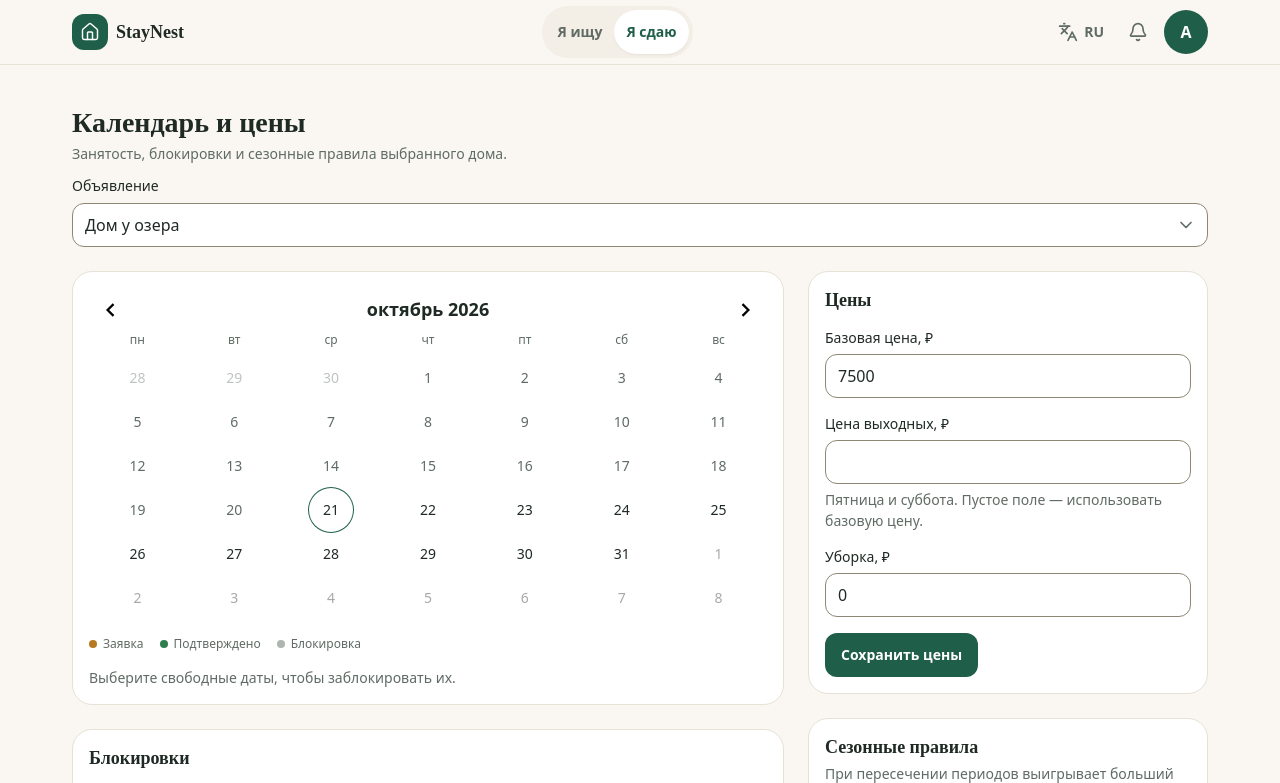
it: App › блокирует выбранные даты в календаре хозяина
Expected: the heading "Календарь и цены" is shown, [72,107,306,138]
Expected: the list item "Заявка" is shown, [89,636,144,652]
Click the button "22".
click(428, 510)  # box [406,488,450,532]
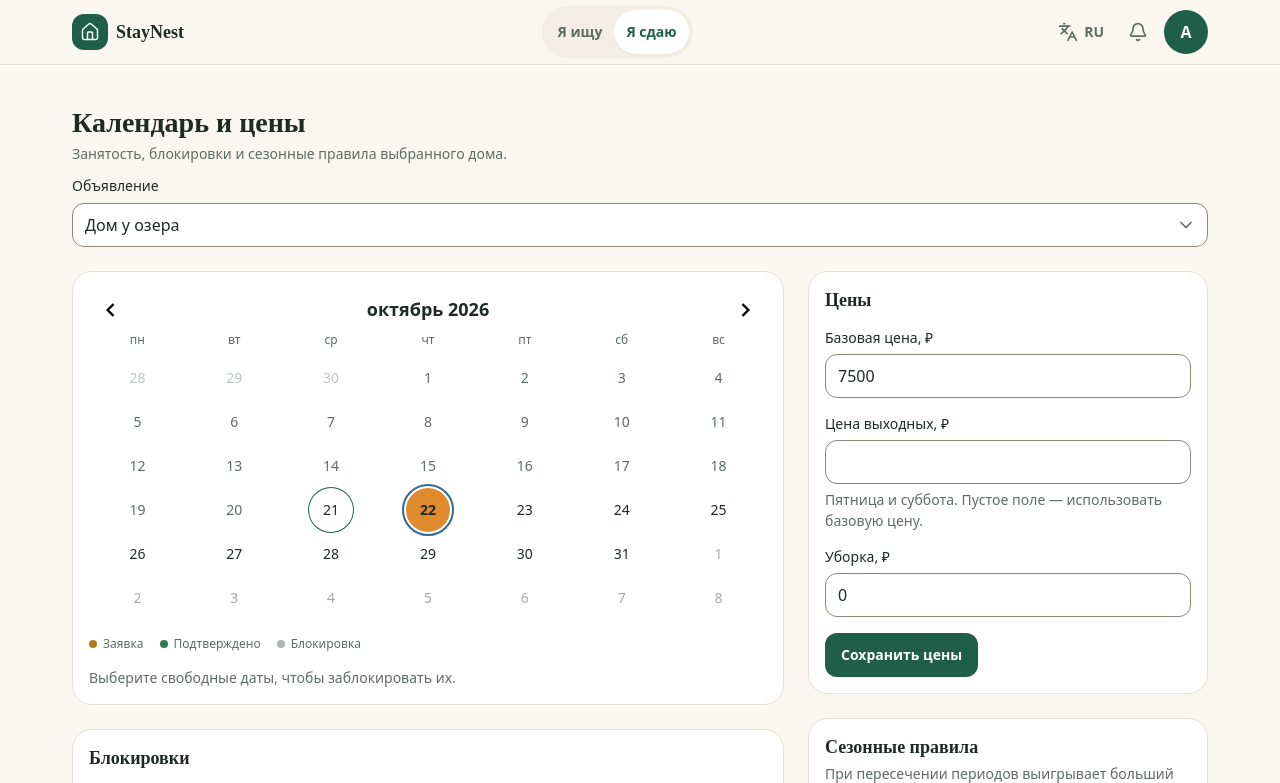
Click the button "24".
click(622, 510)  # box [600,488,644,532]
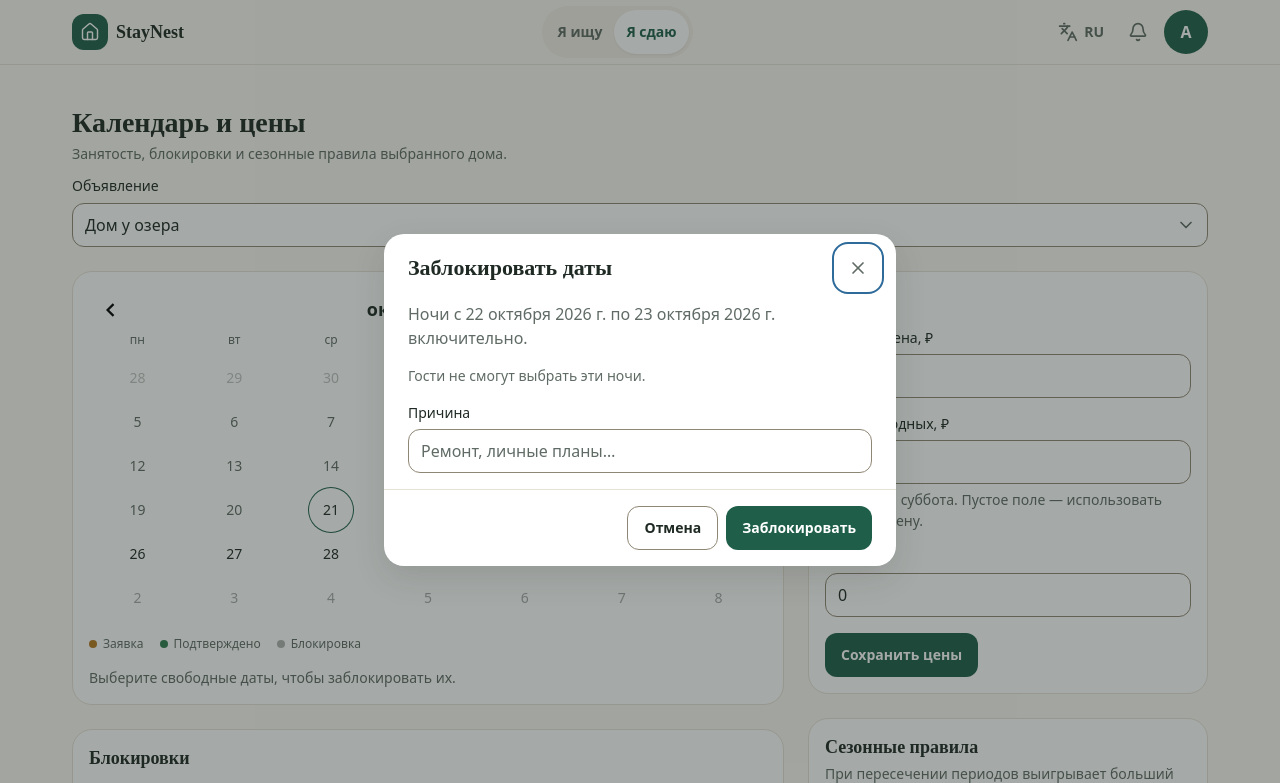
Expected: the dialog "Заблокировать даты" is shown, [384,234,896,566]
Type "Ремонт" into the field labelled "Причина".
click(640, 451); type("Ремонт")  # box [408,429,872,473]
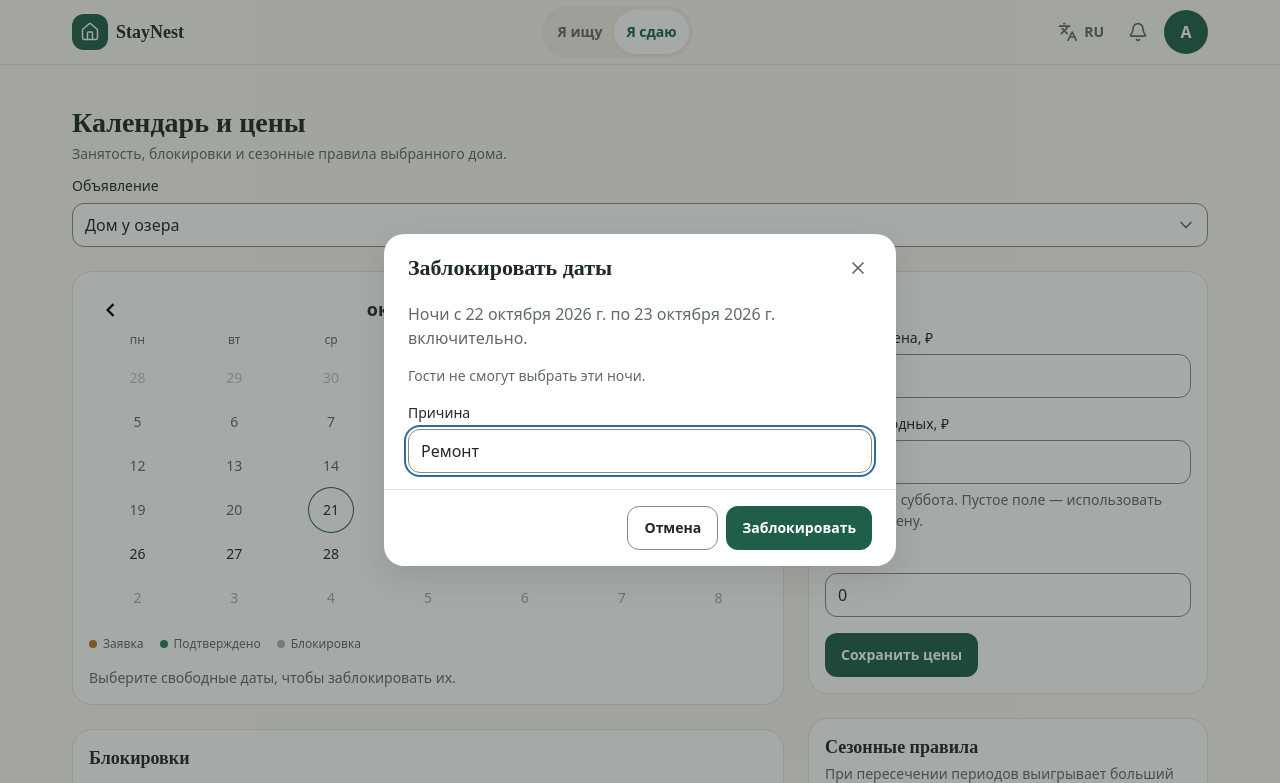
Click the button "Заблокировать".
click(799, 528)  # box [726,506,872,550]
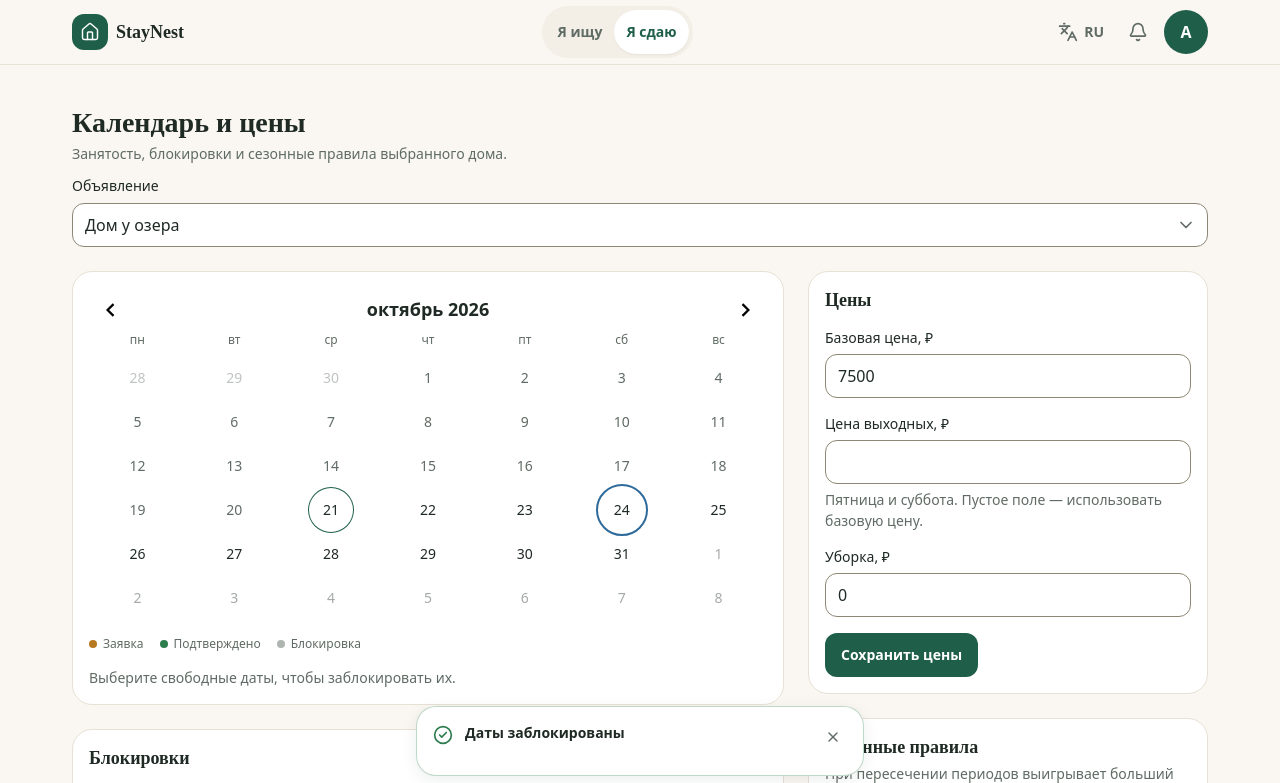
Expected: the text "Даты заблокированы" is shown, [465,723,625,742]
